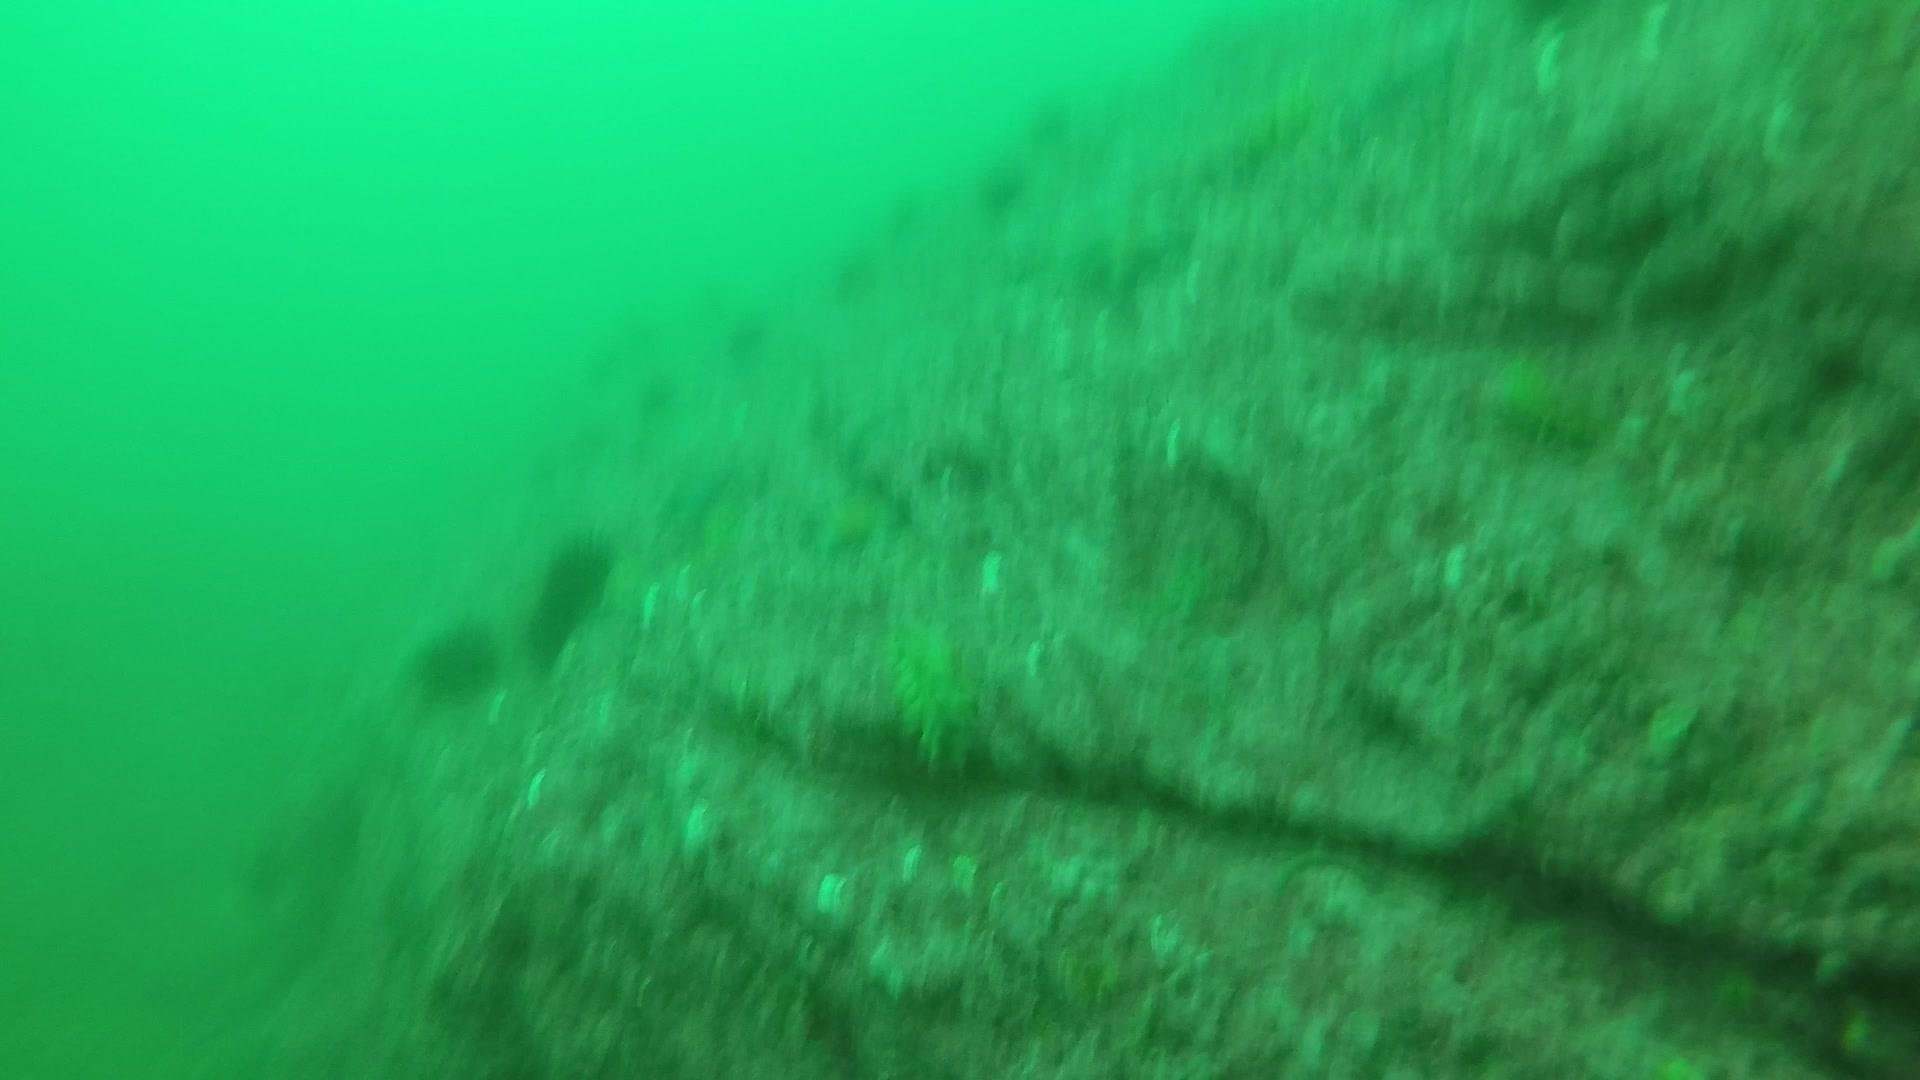echinus: (522, 529, 620, 665), (406, 615, 504, 705), (609, 371, 684, 426), (971, 153, 1033, 219), (1007, 95, 1068, 157), (721, 306, 781, 359), (814, 251, 873, 303), (861, 191, 920, 244)
holothurian: (869, 596, 1000, 767), (1481, 336, 1615, 455)
starfish: (1069, 185, 1193, 302), (800, 469, 906, 563)
